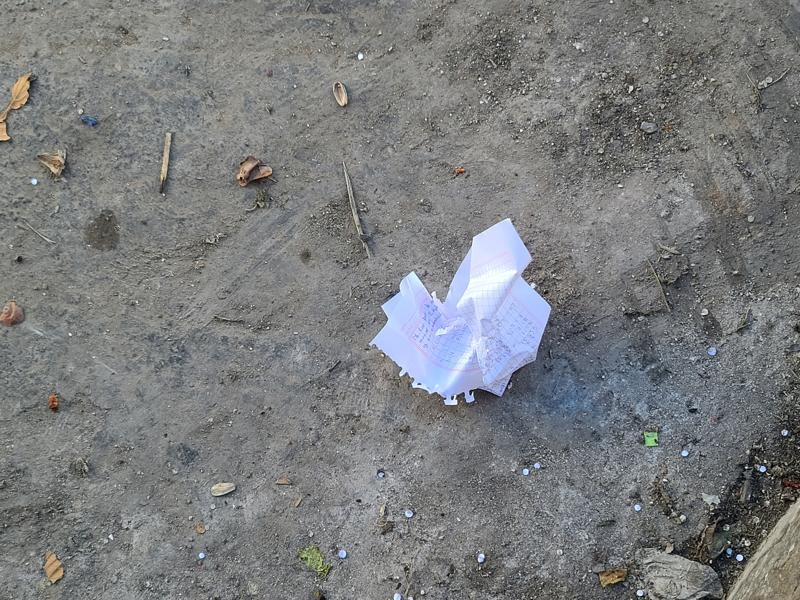papel: (371, 218, 552, 404)
